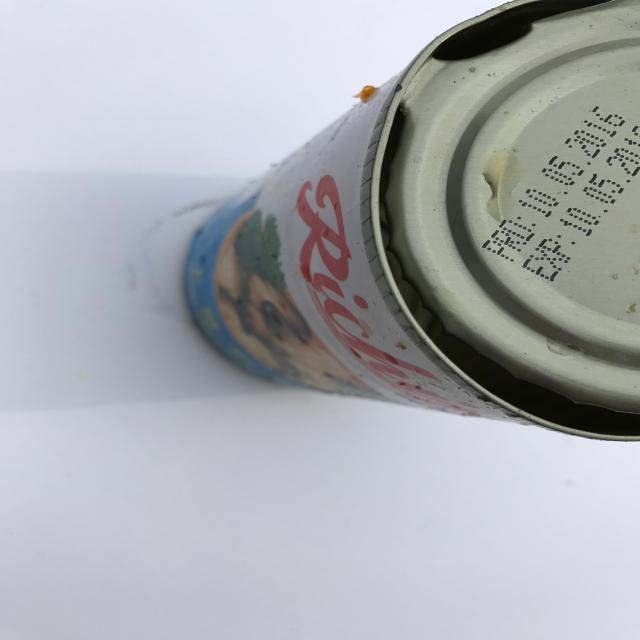metal: (183, 0, 640, 441)
